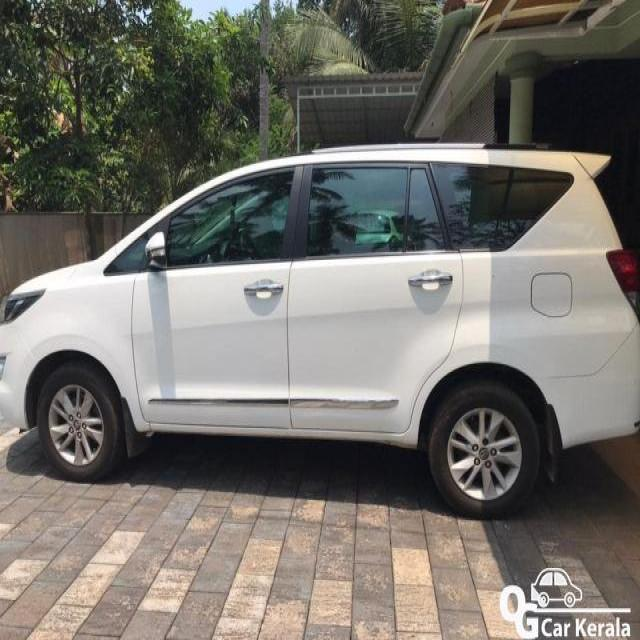light_vehicle: (1, 141, 640, 519)
